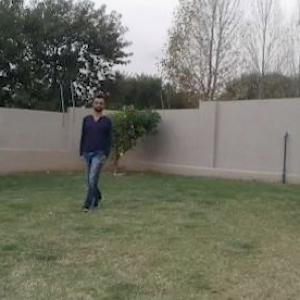follow: (79, 96, 108, 208)
